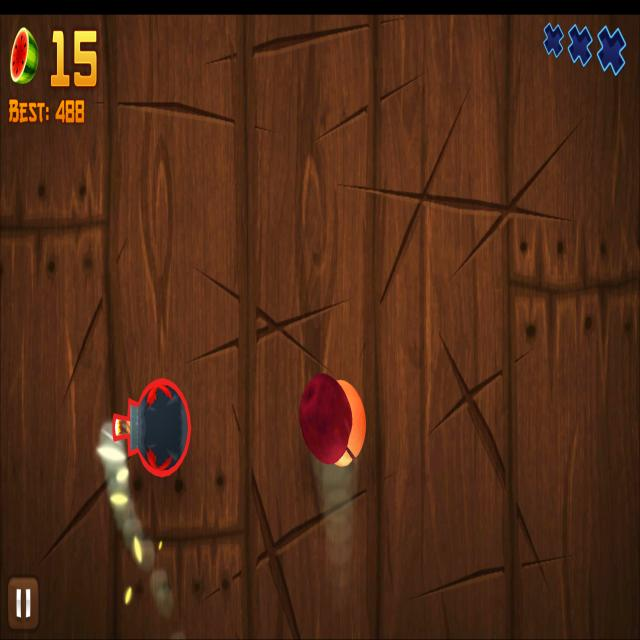bomb: (114, 378, 192, 478)
fruit: (299, 372, 353, 465), (334, 379, 365, 466)
